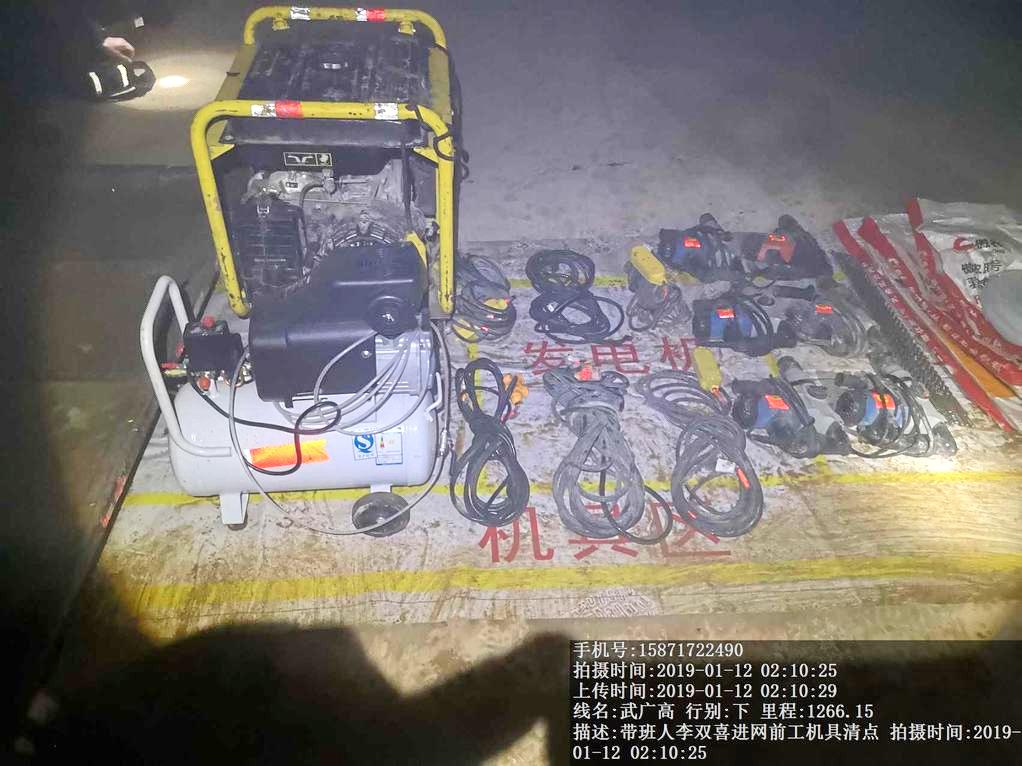DJ: (187, 3, 465, 290)
DX: (528, 360, 668, 548), (442, 353, 527, 532), (518, 239, 626, 350)
DZ: (730, 347, 845, 464), (840, 354, 938, 463), (684, 270, 796, 350), (660, 212, 739, 272)
